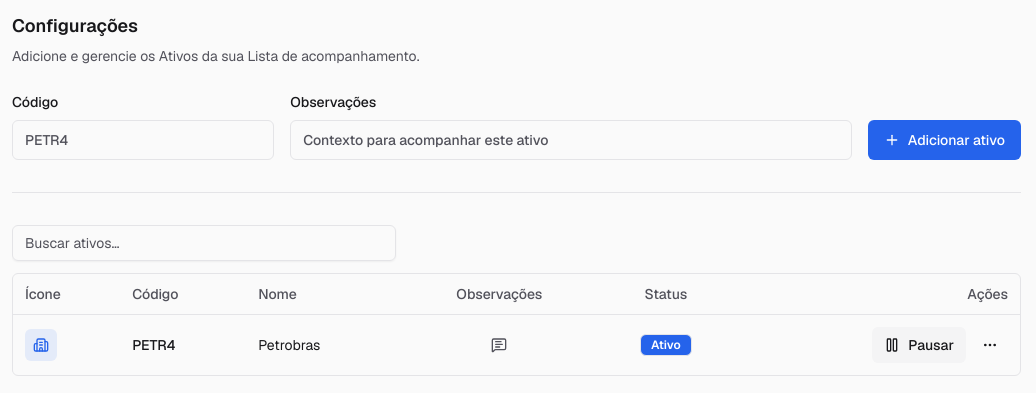
it: SettingsPage › renders observations in a portalled hover card
Hover over the button named "Ver observações de PETR4" at (499, 344), box 481,326 -> 517,362
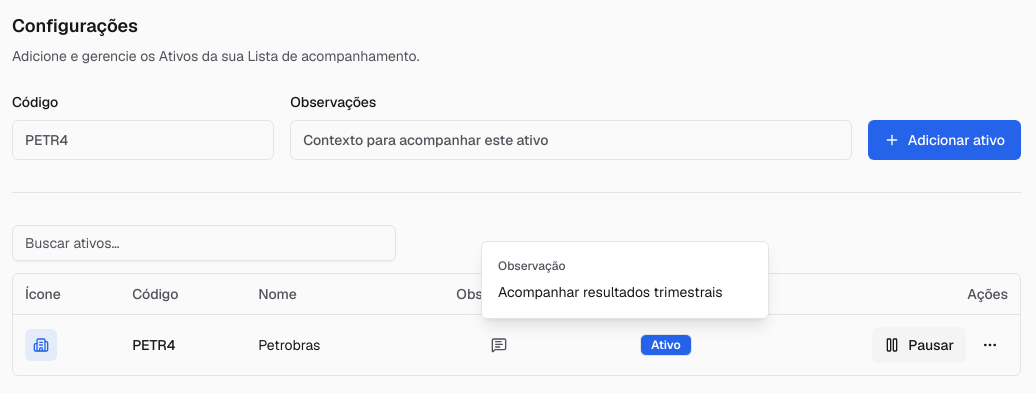
Expected: the text "Observação" is shown, 498,258 -> 566,274
Expected: the text "Acompanhar resultados trimestrais" is shown, 498,274 -> 752,302
